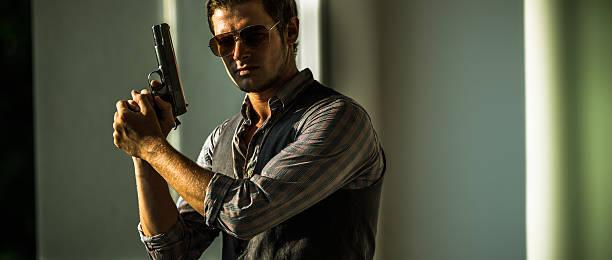weapon: (140, 14, 190, 127)
